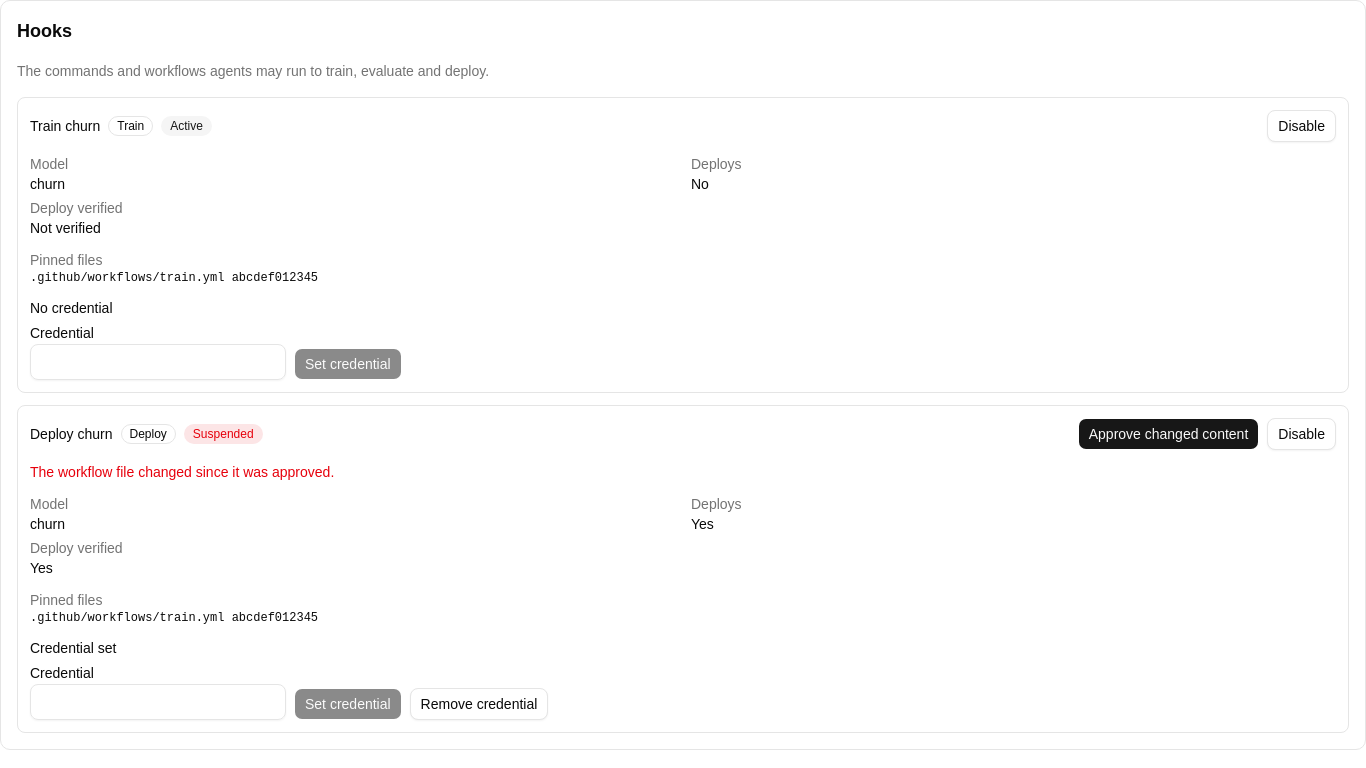
Test: HooksSection › disables an active hook and the row shows the new status
Click the button "Disable" in the row of "Active".
click(1302, 126)  # box [1267,110,1336,142]
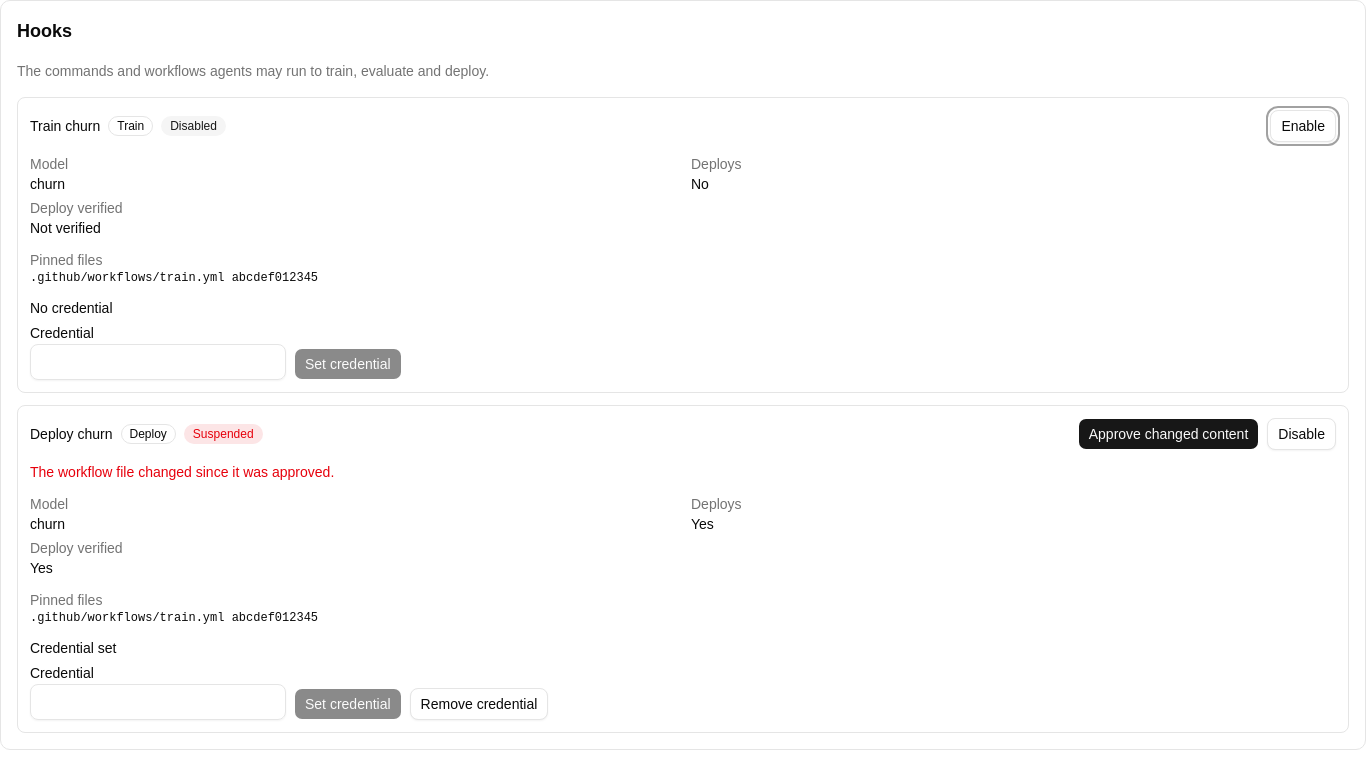
Result: the text "Disabled" is shown at [161,116,226,136]
Result: the button "Enable" is shown at [1270,110,1336,142]
